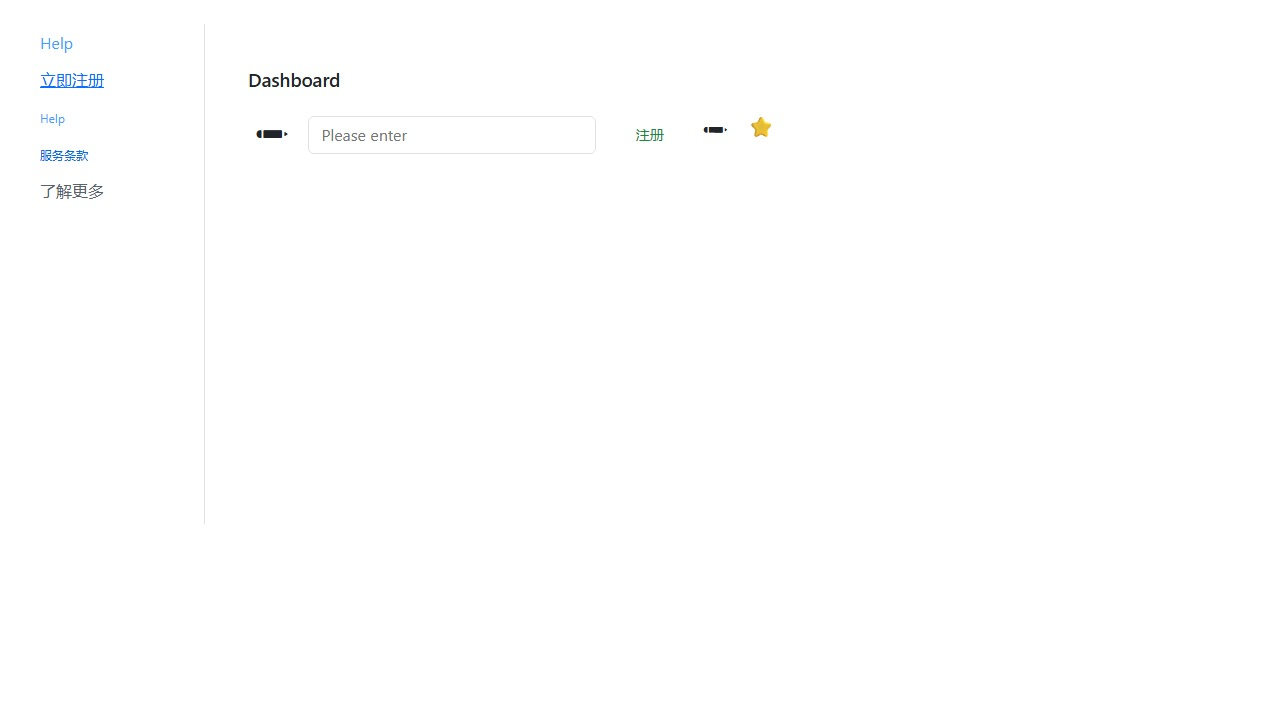button: (617, 116, 683, 154)
icon: (256, 116, 288, 148), (703, 116, 727, 140), (748, 116, 775, 136)
input: (308, 116, 596, 154)
link: (40, 69, 104, 90), (40, 180, 104, 201), (40, 147, 88, 163), (40, 32, 73, 53), (40, 110, 65, 126)
